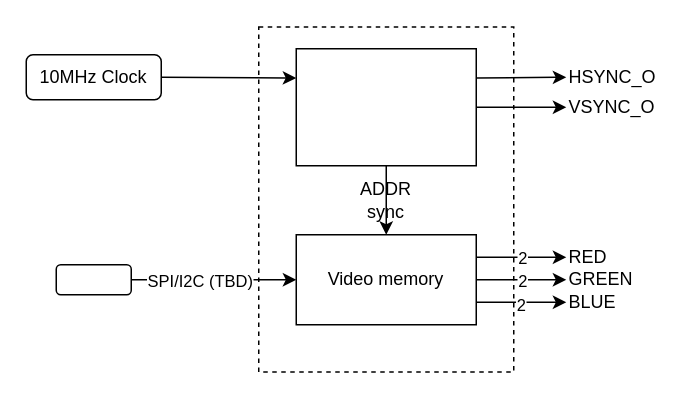
Image size: 698x398. Some labels were removed from this diagram. The box of each missing label's shape, as (x1, y1, x2, y2) in pixels:
DATA in: (55, 263, 131, 295)
HSYNC&VSYNC Generator (counters): (295, 47, 476, 166)
